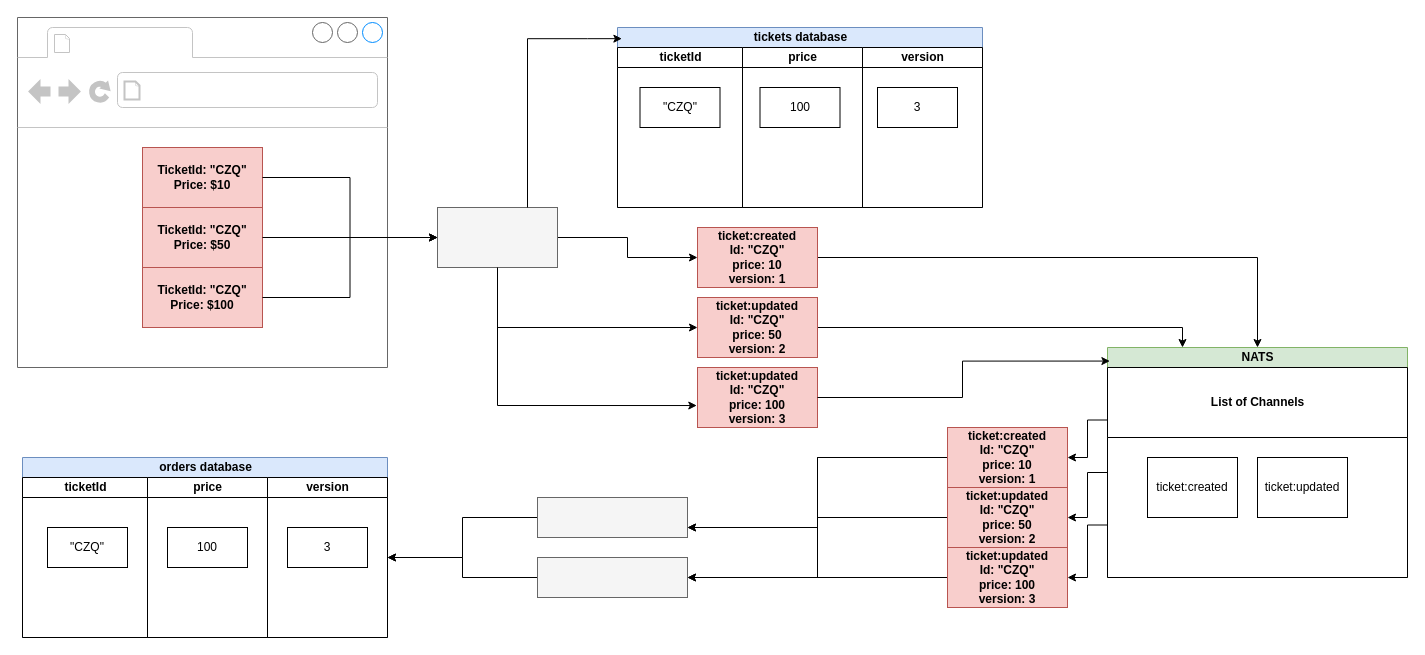
Image size: 1425x655. Some labels were removed from this diagram. The shapes that lost their labels are listed below. From the top down, each one's centre as x and y in pixels, then its label:
At (x=132, y=42): "Page 1".
At (x=272, y=90): "https://www.ticketing.dev".
At (x=497, y=237): "ticket srv".
At (x=612, y=517): "orders srv ( listener) A".
At (x=612, y=577): "orders srv ( listener) B".
